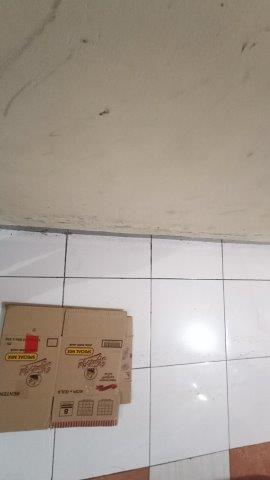kardus: (1, 306, 131, 430)
